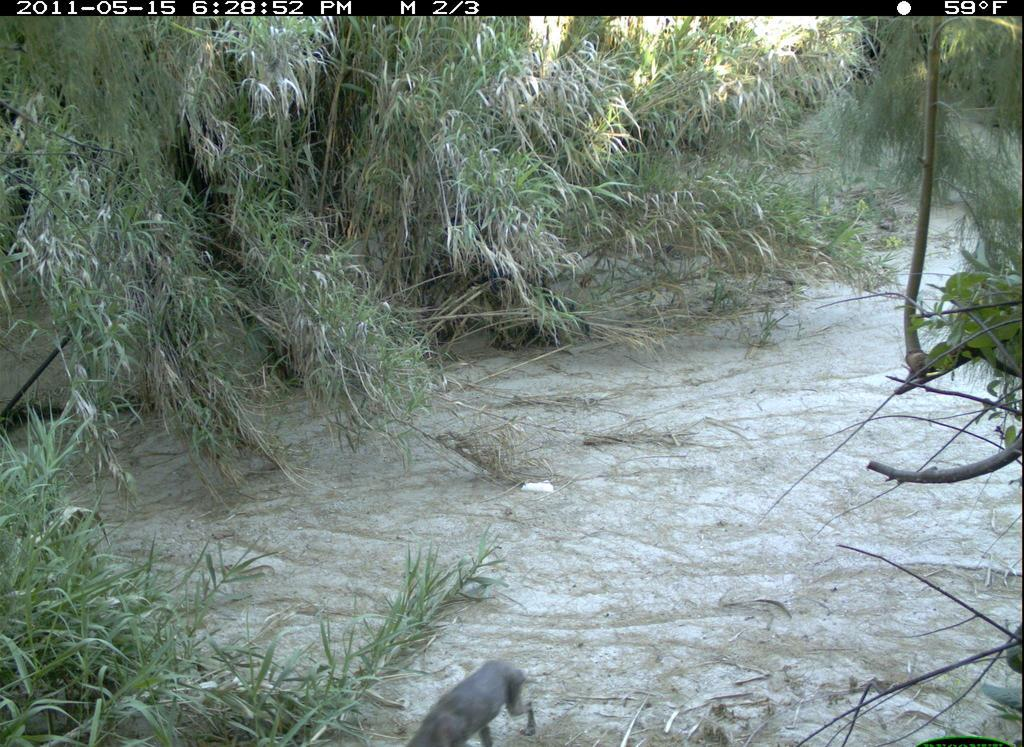coyote: (393, 653, 560, 747)
